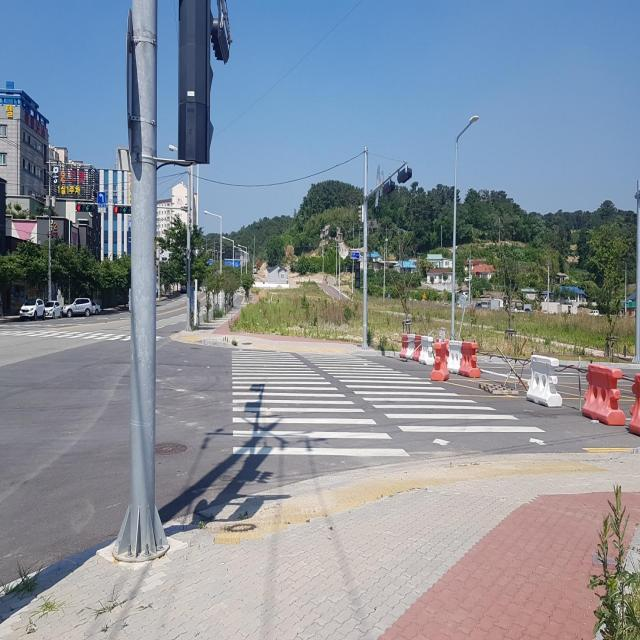횡단보도: (231, 345, 546, 456), (1, 325, 169, 344)
